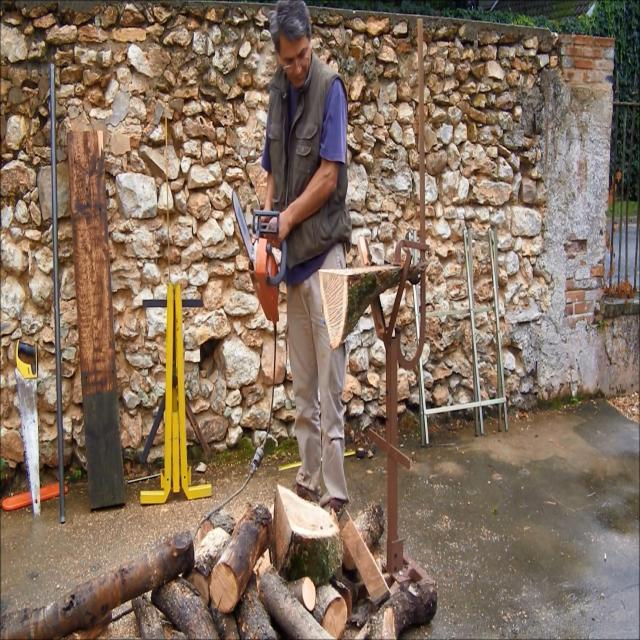Chainsaw: (216, 175, 302, 332)
